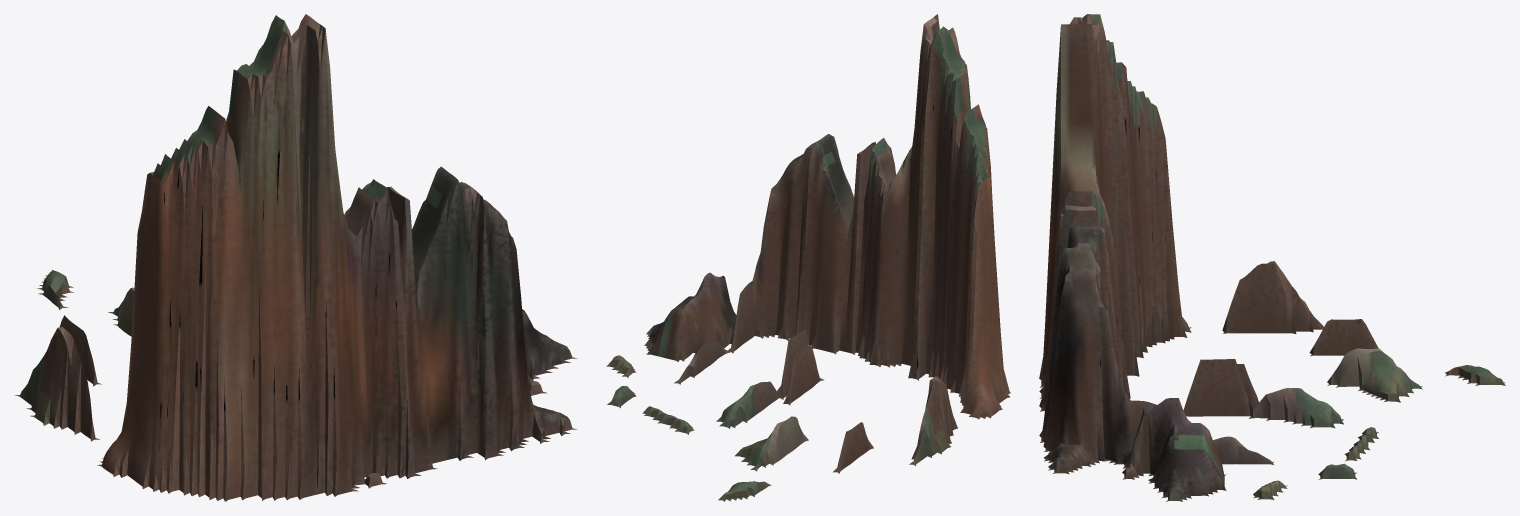
The model's file is fulgora-sunk-ruin-big.glb.
3 views of the same model, side by side, from view 1: azimuth 30°, elevation 25°; view 2: azimuth 150°, elevation 25°; view 3: azimuth 270°, elevation 25° (orthographic). The views are drawn at different scales.
Visible parts, largest first — view 1: body; view 2: body; view 3: body.
Part boxes in pixels (bbox=[...]): body: bbox=[14, 14, 577, 501]; body: bbox=[606, 14, 1010, 501]; body: bbox=[1039, 14, 1505, 501].
Size of the model in its own units: 6.06 by 5.65 by 6.69.
Materials: 1 (1 with a texture image).
